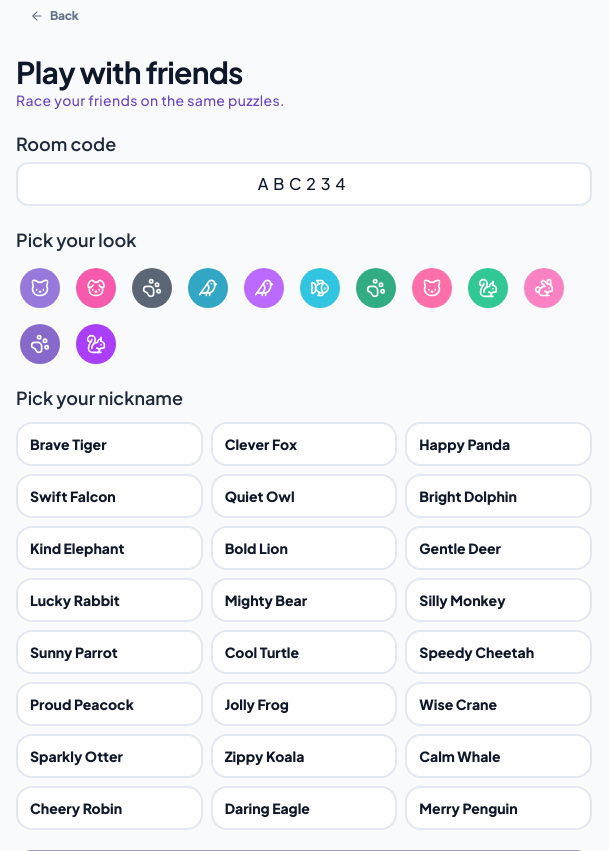
Test: joining as a guest › tells a child the host did not let them in when the door is shut on them
Click the button named "fox": {"x": 96, "y": 288} [72,264,120,312]
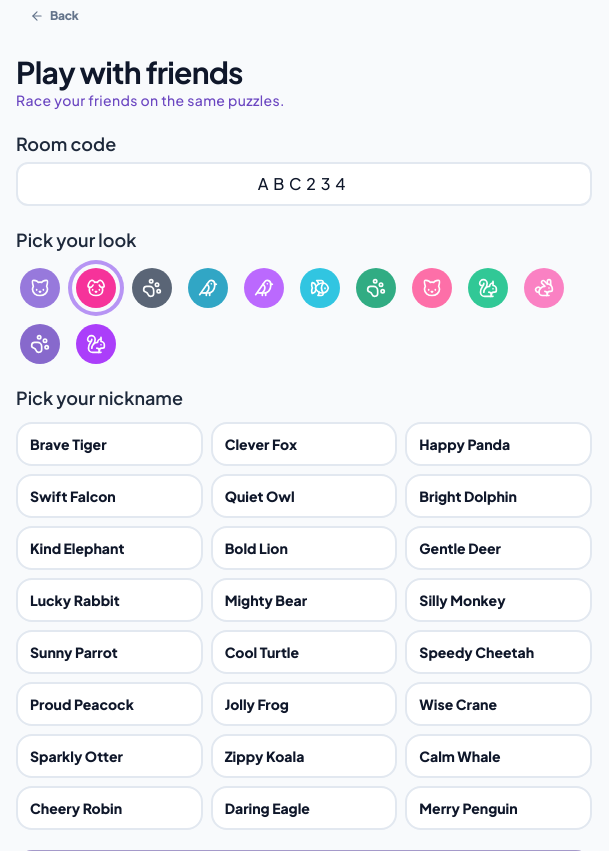
Click the button "Clever Fox": {"x": 304, "y": 444} [211,422,397,466]
(page scrolled)
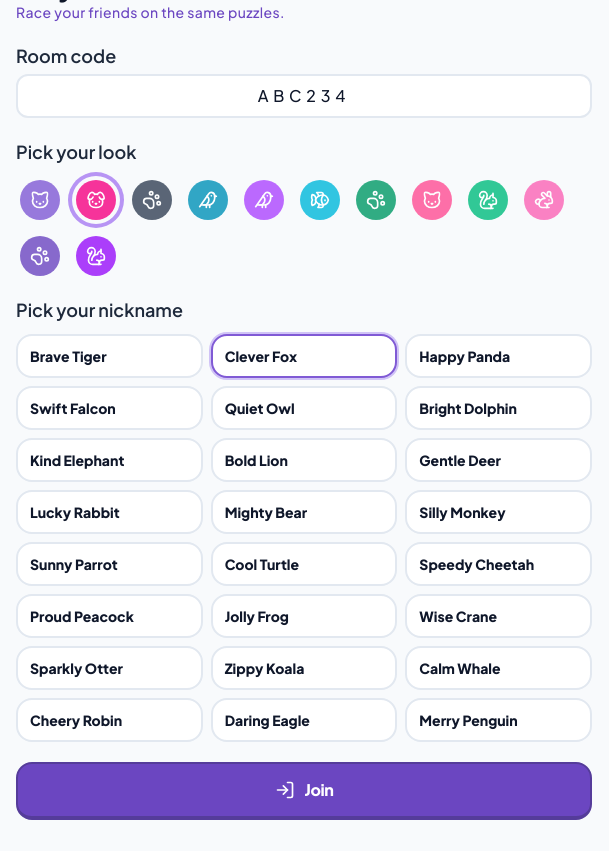
Click the button "Join": {"x": 304, "y": 791} [16,762,592,820]
(page scrolled)
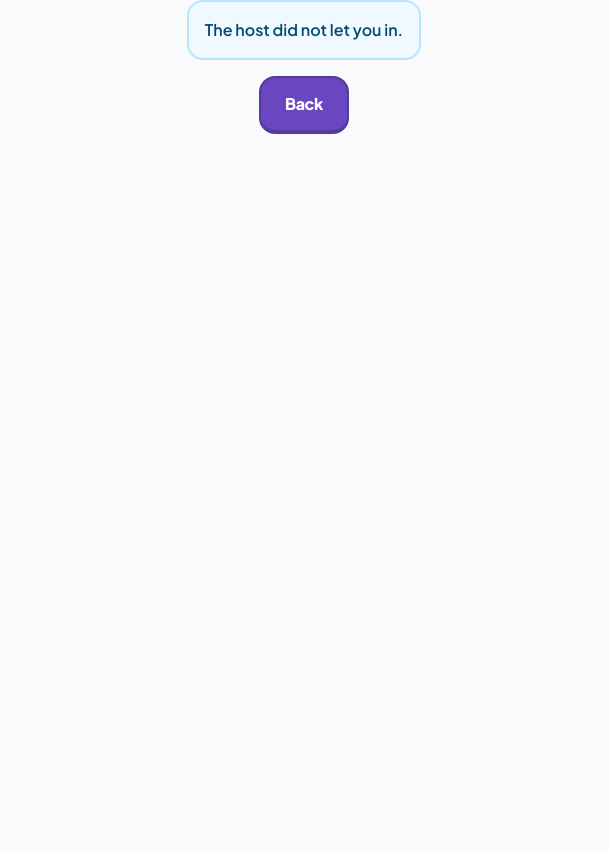
Check: the text "The host did not let you in." is shown, box [187,0,421,60]
